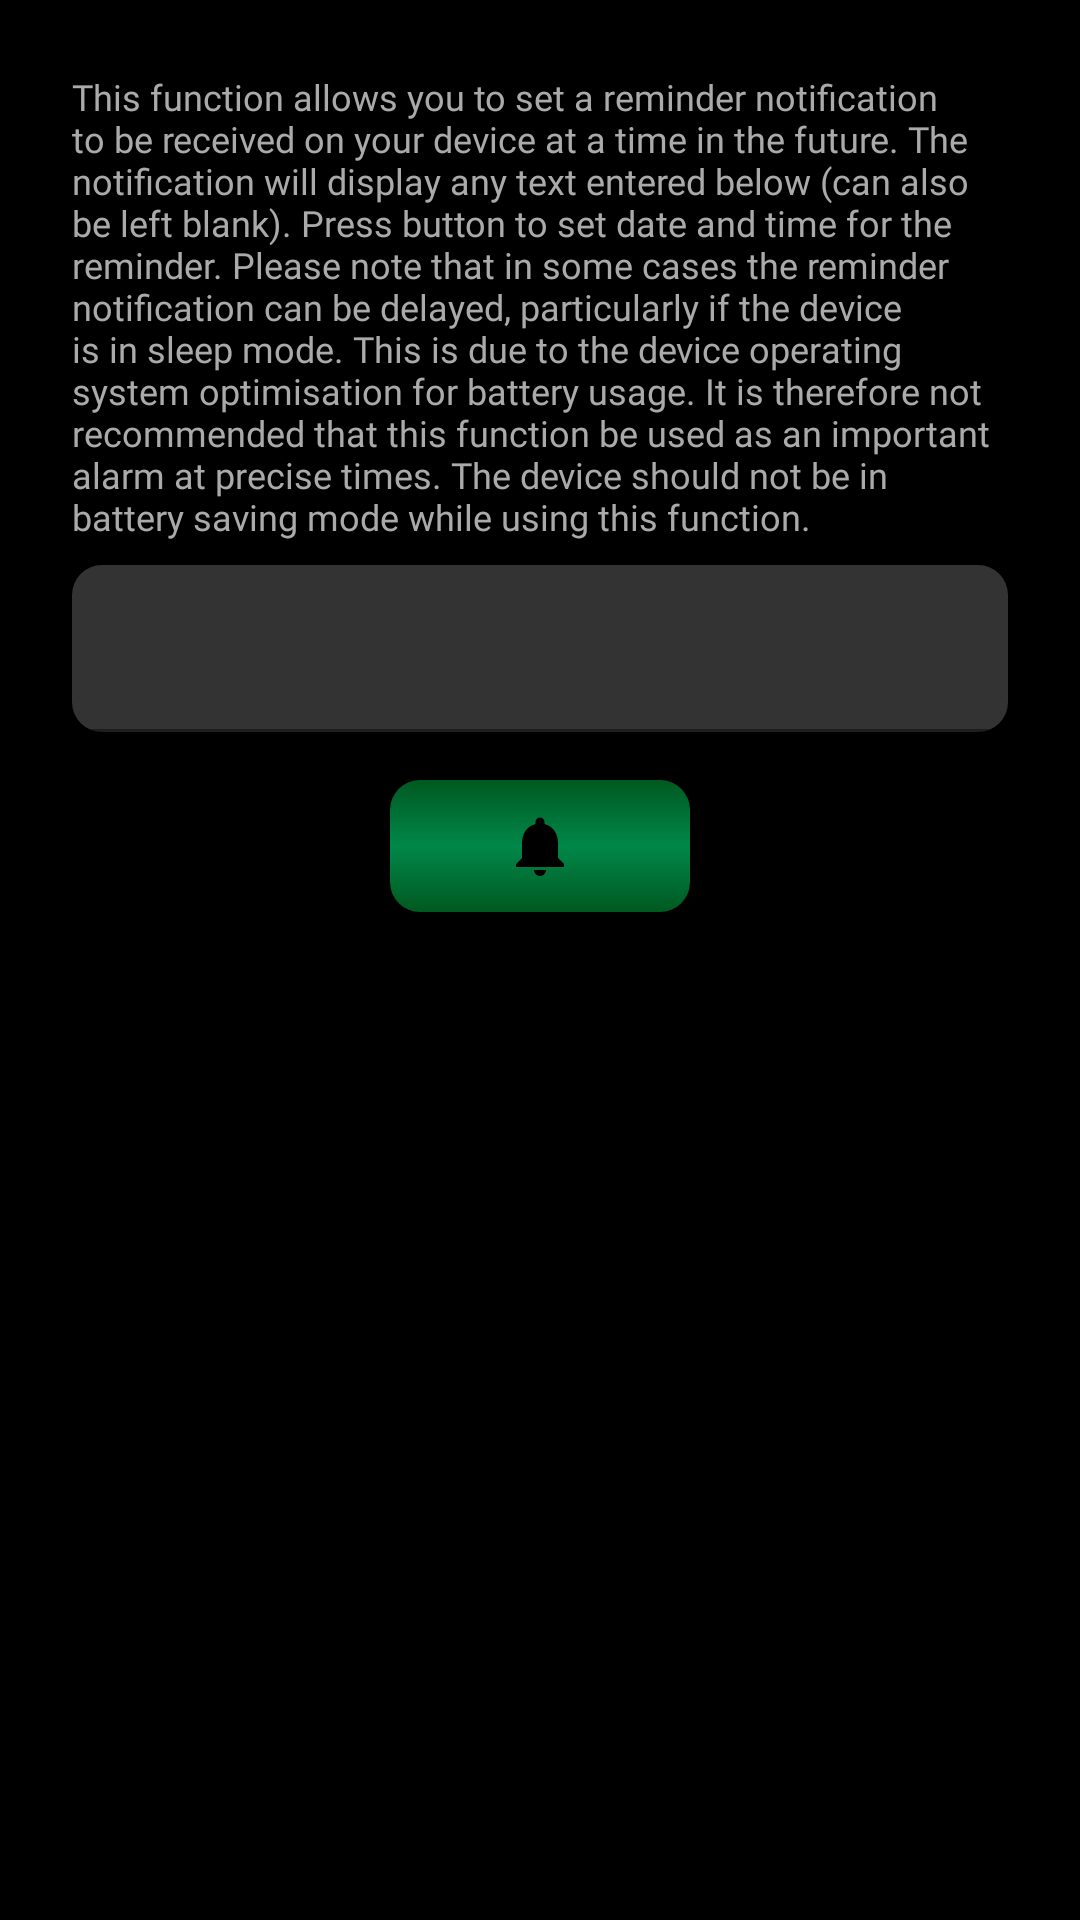

Point at icon controls on the screen. Image size 1080 × 1920, points as [x,y].
notifications: [540,846]
